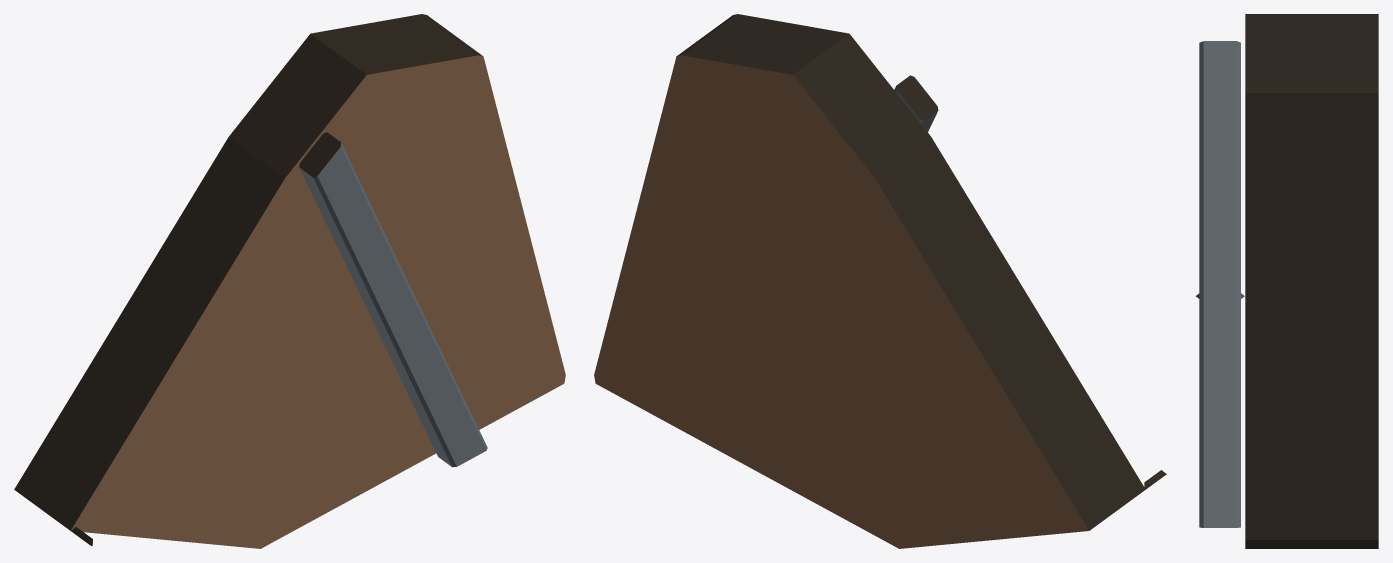
The model's file is SM_DoorShard_01_19.fbx.
3 views of the same model, side by side, from view 1: azimuth 30°, elevation 25°; view 2: azimuth 150°, elevation 25°; view 3: azimuth 270°, elevation 25° (orthographic). The views are drawn at different scales.
Visible parts, largest first — view 1: SM_DoorShard_01_19; view 2: SM_DoorShard_01_19; view 3: SM_DoorShard_01_19.
Part boxes in pixels (bbox=[...]): SM_DoorShard_01_19: bbox=[14, 14, 565, 548]; SM_DoorShard_01_19: bbox=[594, 14, 1166, 548]; SM_DoorShard_01_19: bbox=[1196, 14, 1378, 548].
Bounding box in the file's own units: 81.05 × 21.98 × 70.07.
